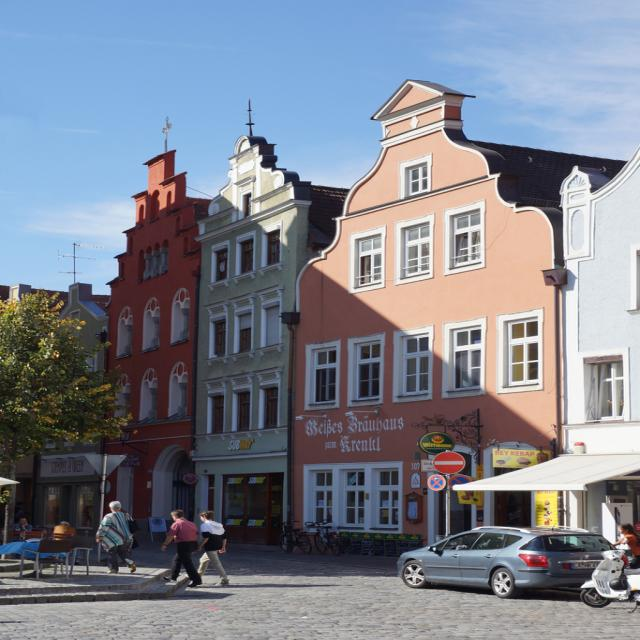Motorbikes: (576, 551, 640, 610)
Passenger Car: (402, 526, 617, 598)
Pedestrians: (192, 508, 234, 588), (96, 500, 140, 574), (159, 510, 200, 582)
